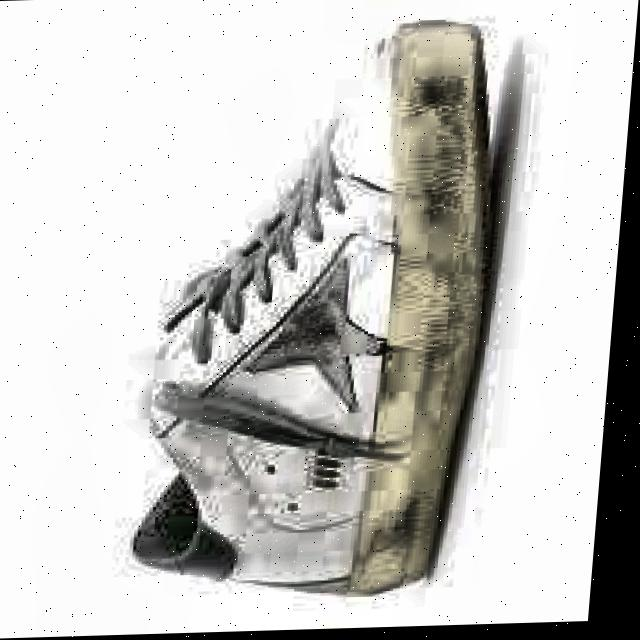shoes: (60, 2, 557, 627)
